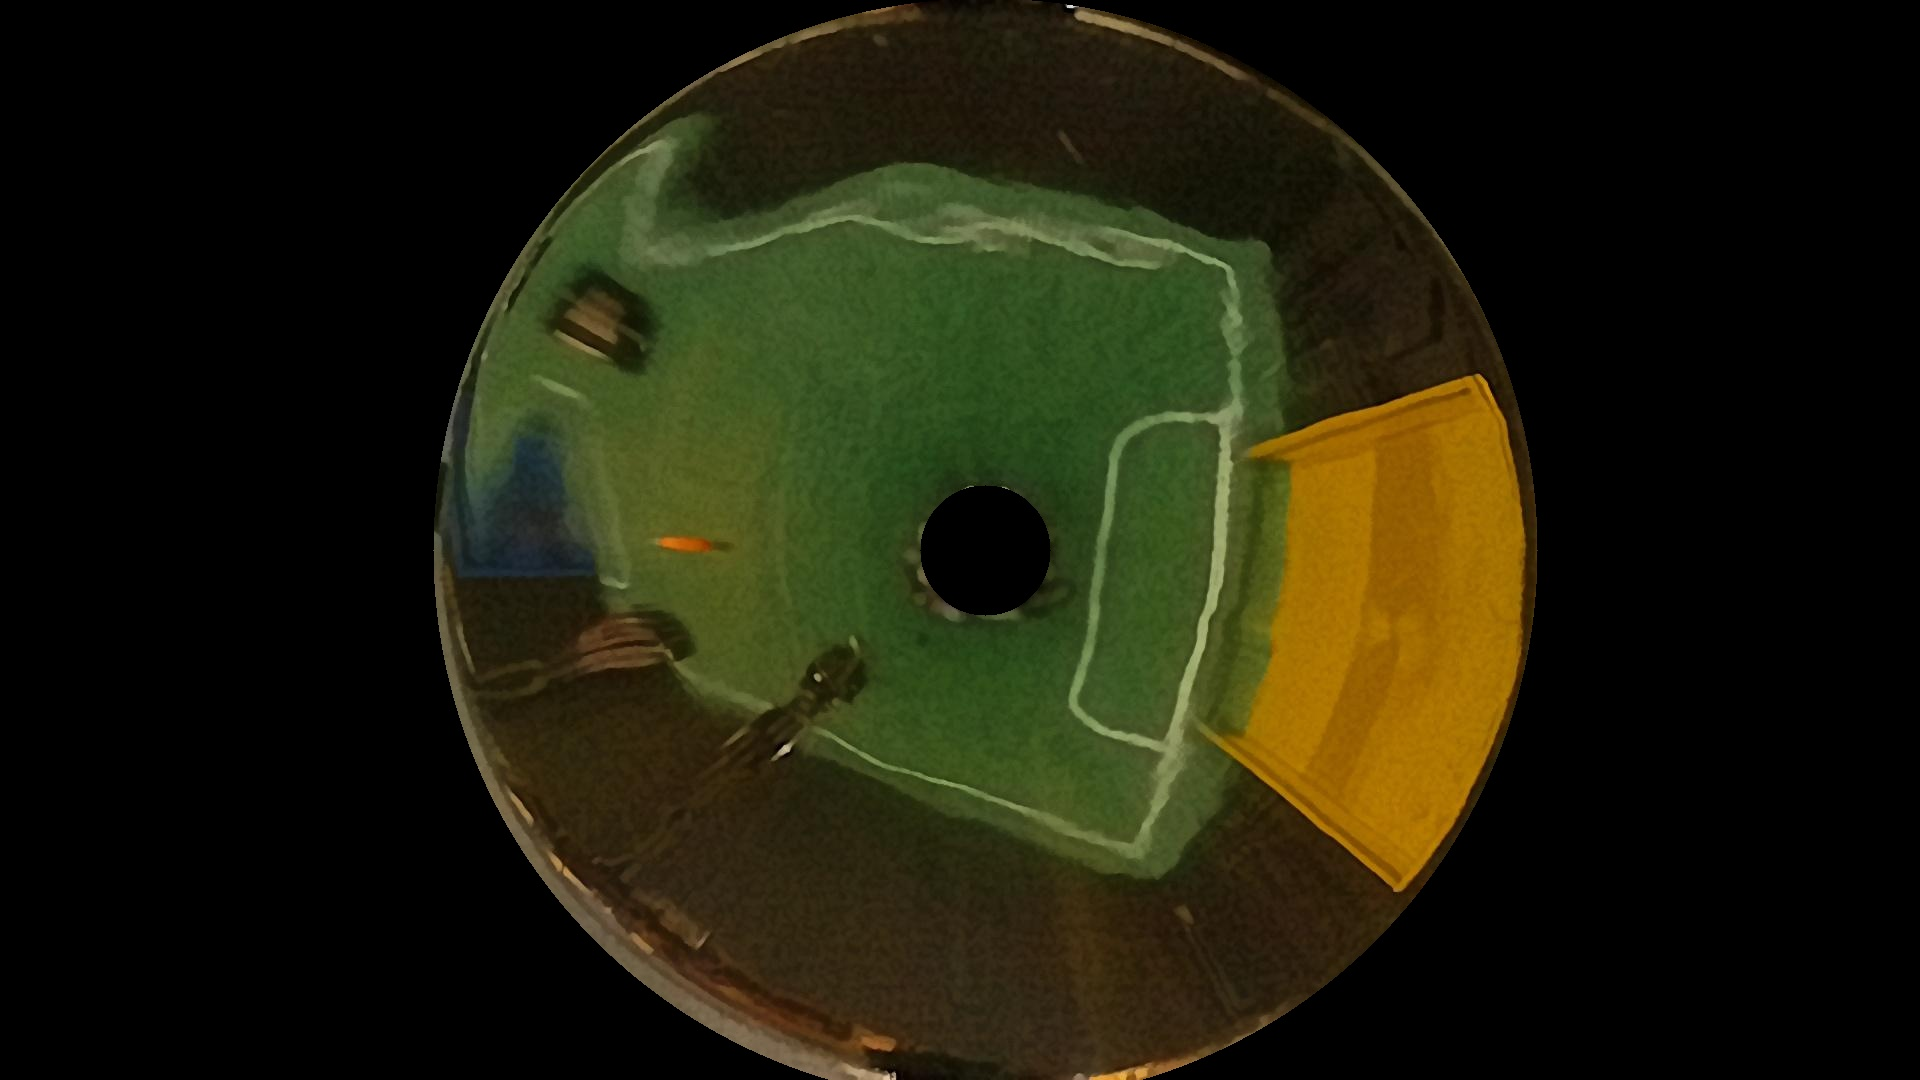ball: (658, 535, 719, 560)
blue-goal: (413, 397, 626, 555)
robots: (632, 671, 878, 815), (510, 280, 682, 367), (497, 620, 678, 674)
yellow-goal: (1257, 380, 1505, 816)
